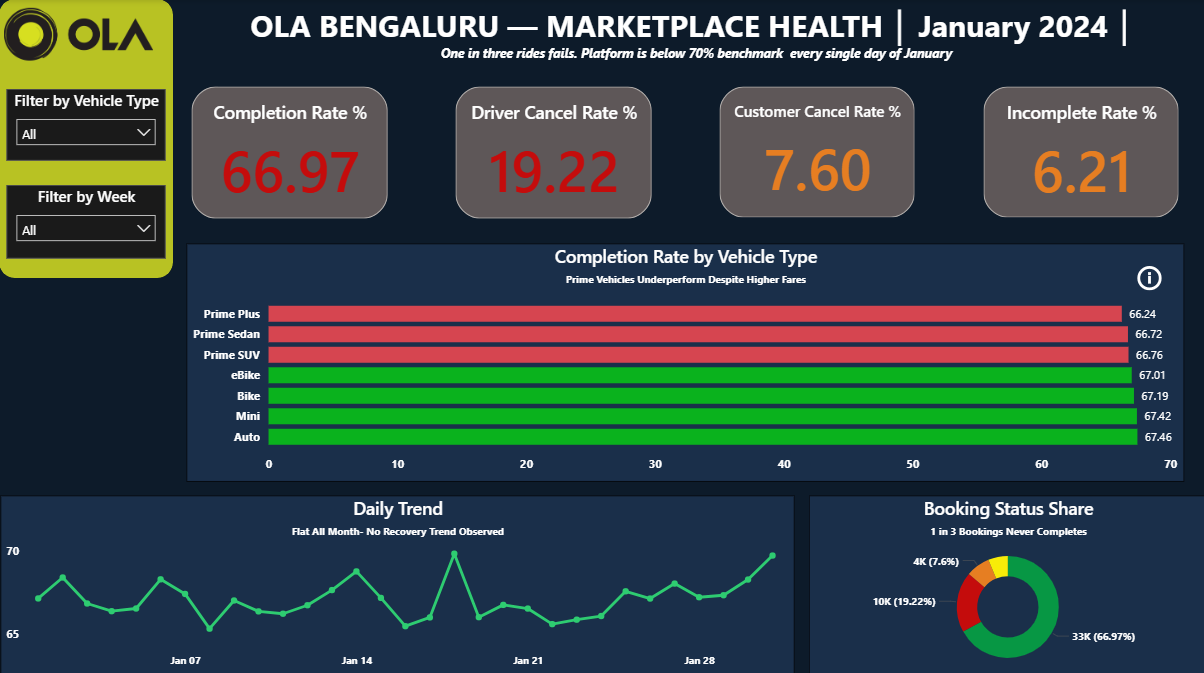

This screenshot's page, from the dashboard's own definition file:
{"tool":"powerbi","page":{"name":"Executive Overview","canvas":[1280,720],"ordinal":0},"visuals":[{"type":"shape","box":[0,0,184.5,295.9],"z":0},{"type":"cardVisual","fields":{"Data":["Measure Table.Completion Rate %"]},"box":[198.8,87.5,218.3,150],"z":0,"group":"g2"},{"type":"cardVisual","fields":{"Data":["Measure Table.Driver Cancel Rate %"]},"box":[478.8,87.5,218.3,150],"z":0,"group":"g1"},{"type":"cardVisual","fields":{"Data":["Measure Table.Customer Cancel Rate %"]},"box":[758.7,87.5,217.9,149.5],"z":1000},{"type":"textbox","box":[233.2,0,1003.9,74.5],"z":2000},{"type":"slicer","title":"Filter by Vehicle Type","fields":{"Values":["ola_powerbi_ready.Vehicle Type"]},"box":[8.1,95.5,168.4,76.1],"z":3000},{"type":"slicer","title":"Filter by Week","fields":{"Values":["ola_powerbi_ready.Week_Number"]},"box":[8.1,197.5,168.4,77.7],"z":4000},{"type":"cardVisual","fields":{"Data":["Measure Table.Incomplete Rate %"]},"box":[1038.7,87.5,217.9,149.5],"z":5000},{"type":"group","id":"g1","title":"Group 1","box":[478.8,87.5,217.9,149.5],"z":6000},{"type":"clusteredBarChart","title":"Completion Rate by Vehicle Type","fields":{"Category":["ola_powerbi_ready.Vehicle Type"],"Y":["Measure Table.Completion Rate %"]},"box":[198.8,259.3,1057.8,252.9],"z":7000},{"type":"actionButton","box":[1202.5,275.2,35,41.4],"z":8000},{"type":"lineChart","title":"Daily Trend","fields":{"Y":["Measure Table.Completion Rate %"],"Category":["ola_powerbi_ready.Date.Variation.Date Hierarchy.Year","ola_powerbi_ready.Date.Variation.Date Hierarchy.Quarter","ola_powerbi_ready.Date.Variation.Date Hierarchy.Month","ola_powerbi_ready.Date.Variation.Date Hierarchy.Day"]},"box":[1.7,526.7,841.7,193.3],"z":9000},{"type":"donutChart","title":"Booking Status Share","fields":{"Category":["ola_powerbi_ready.Booking Status"],"Y":["Measure Table.Total Bookings"]},"box":[858.3,526.7,421.7,193.3],"z":10000},{"type":"image","box":[0,0,168.4,74.5],"z":11000},{"type":"group","id":"g2","title":"Group 1","box":[198.8,87.5,217.9,149.5],"z":12000}]}

Visuals, with their boxes in screenshot pixels (x1, y1, x2, y2), scaled from the page's 1280x720 canvas onto the 1204x673 screenshot:
shape: (x1=0, y1=0, x2=174, y2=277)
cardVisual - Measure Table.Completion Rate %: (x1=187, y1=82, x2=392, y2=222)
cardVisual - Measure Table.Driver Cancel Rate %: (x1=450, y1=82, x2=656, y2=222)
cardVisual - Measure Table.Customer Cancel Rate %: (x1=714, y1=82, x2=919, y2=222)
textbox: (x1=219, y1=0, x2=1164, y2=70)
"Filter by Vehicle Type" slicer: (x1=8, y1=89, x2=166, y2=160)
"Filter by Week" slicer: (x1=8, y1=185, x2=166, y2=257)
cardVisual - Measure Table.Incomplete Rate %: (x1=977, y1=82, x2=1182, y2=222)
"Group 1" group: (x1=450, y1=82, x2=655, y2=222)
"Completion Rate by Vehicle Type" clusteredBarChart: (x1=187, y1=242, x2=1182, y2=479)
actionButton: (x1=1131, y1=257, x2=1164, y2=296)
"Daily Trend" lineChart: (x1=2, y1=492, x2=793, y2=672)
"Booking Status Share" donutChart: (x1=807, y1=492, x2=1203, y2=672)
image: (x1=0, y1=0, x2=158, y2=70)
"Group 1" group: (x1=187, y1=82, x2=392, y2=222)
